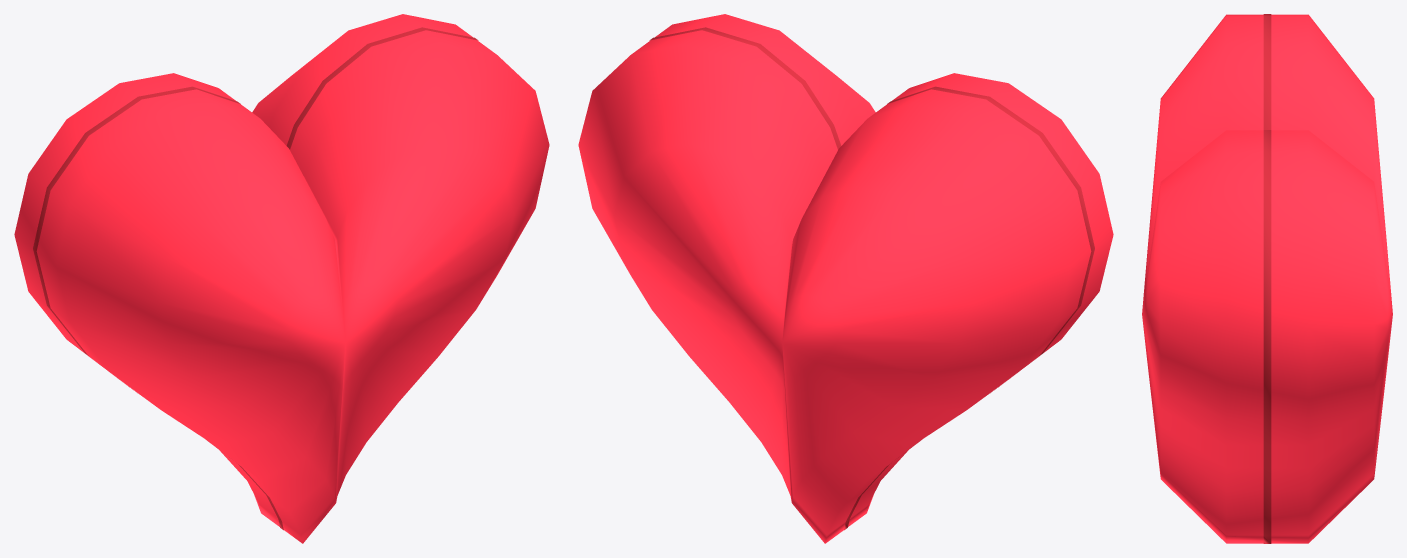
Rendered from heart.glb.
3 renders of one model, left to right at view 1: azimuth 30°, elevation 25°; view 2: azimuth 150°, elevation 25°; view 3: azimuth 270°, elevation 25°, orthographic.
Parts seen in each view (by area): view 1: shell; view 2: shell; view 3: shell.
Boxes of the visible parts, box(x1,y1,x2,y2) form: shell: box(14, 14, 549, 543); shell: box(578, 14, 1113, 543); shell: box(1142, 14, 1392, 543).
Size of the model in its own units: 0.3006 by 0.2706 by 0.134.
2 materials, 2 textured.
